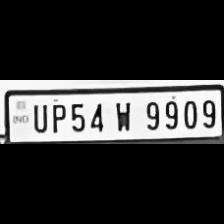0: (180, 97, 198, 129)
4: (87, 99, 107, 133)
5: (66, 100, 86, 132)
9: (140, 97, 160, 130), (199, 97, 217, 129), (162, 98, 178, 130)
P: (47, 100, 66, 134)
U: (28, 101, 48, 133)
W: (109, 97, 135, 132)
